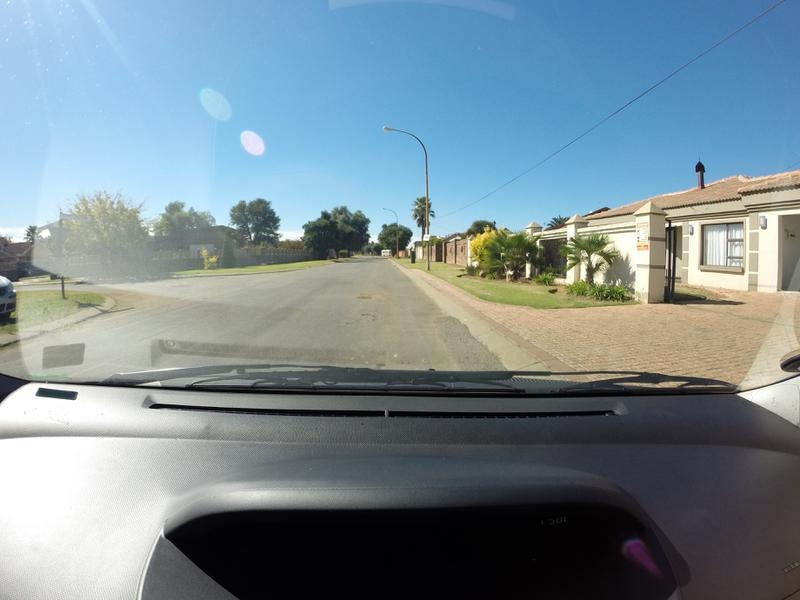pothole: (340, 288, 378, 308)
